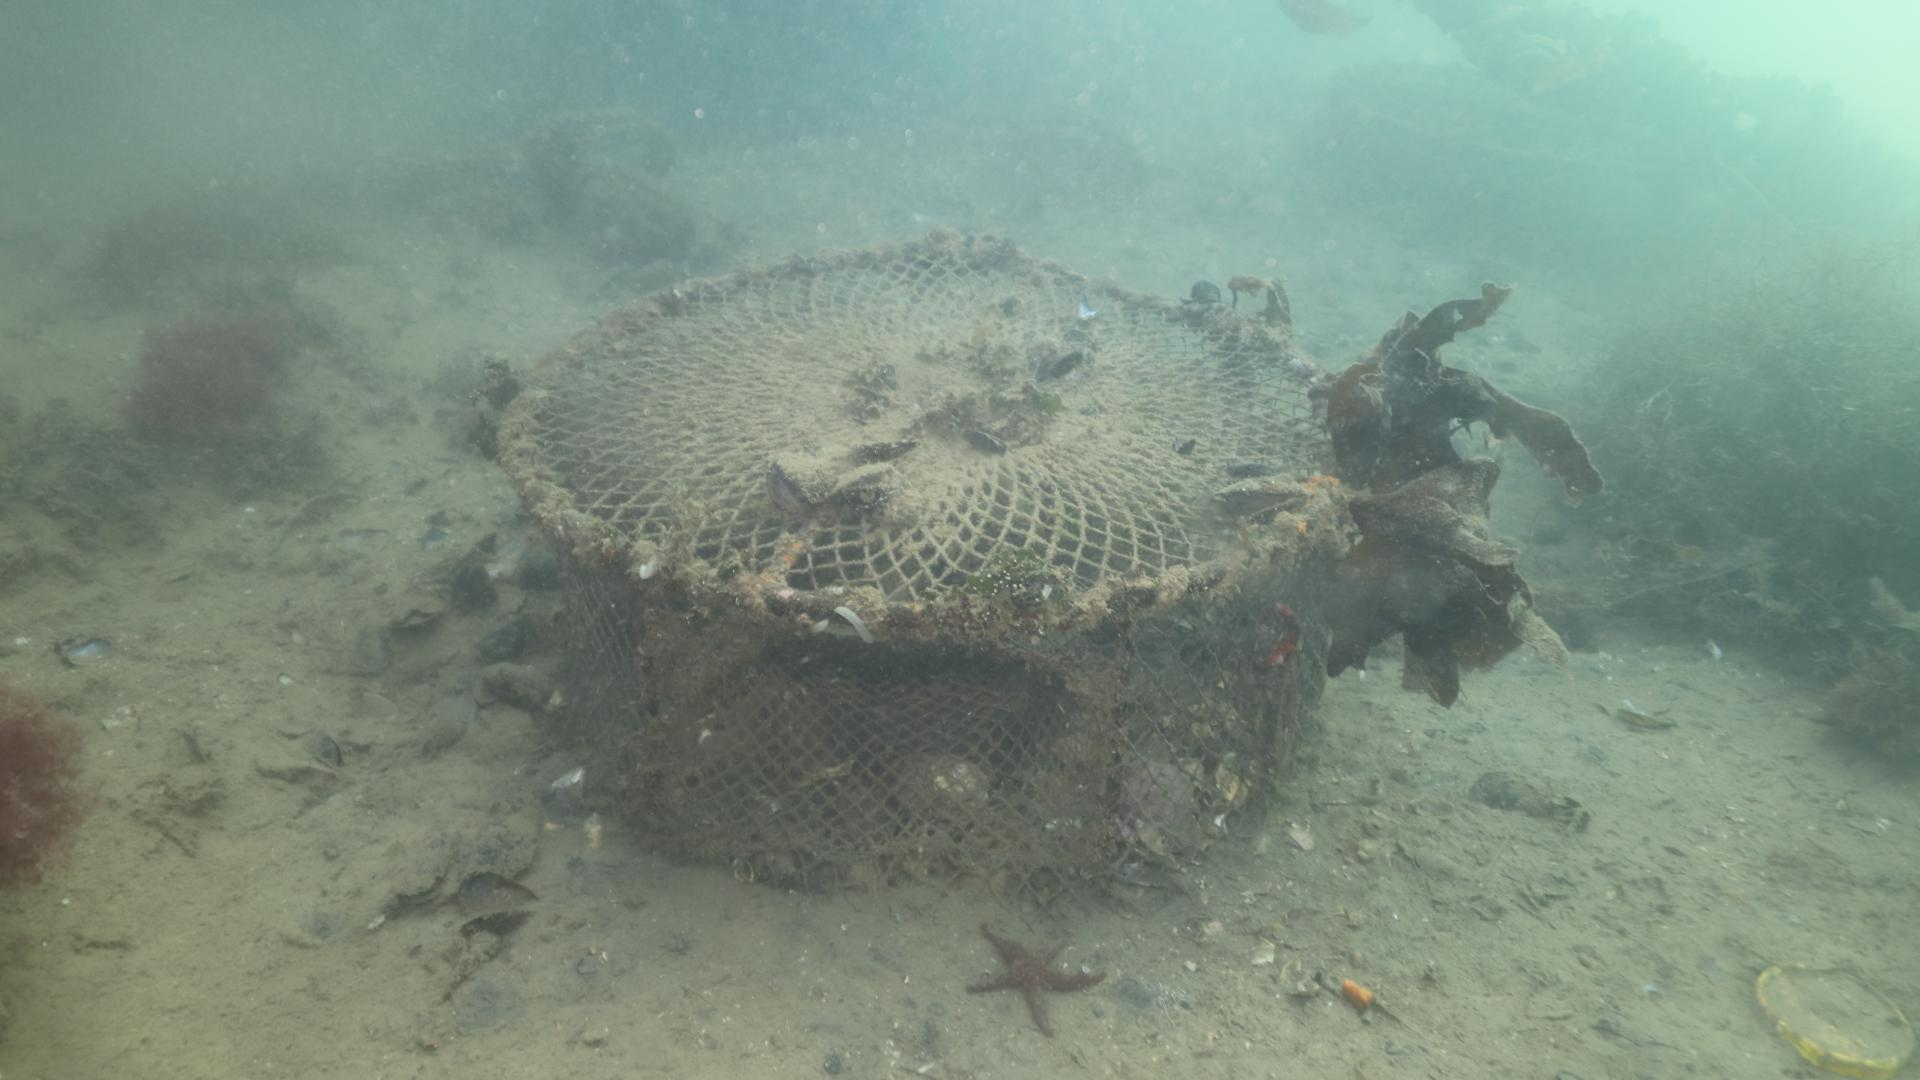circular fish trap: (491, 237, 1370, 901)
